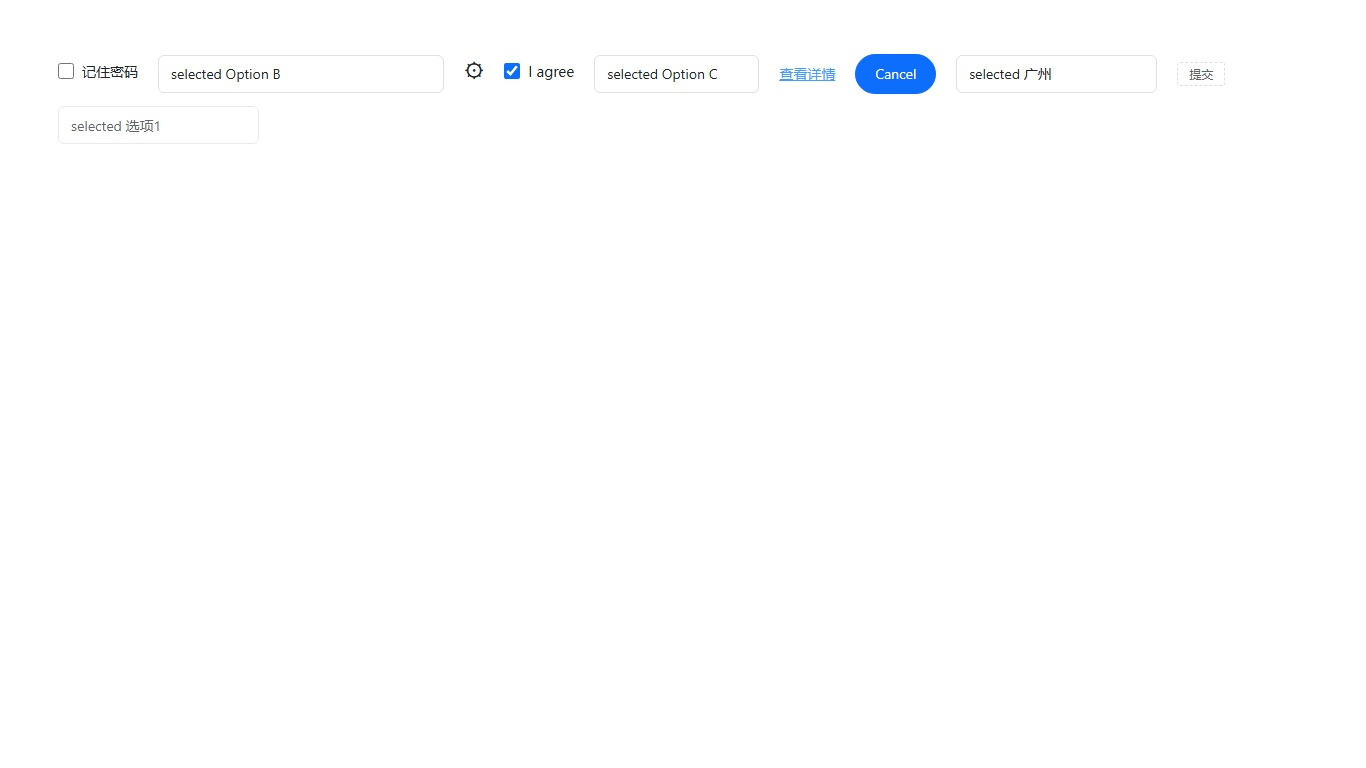button: (855, 54, 936, 94), (1177, 62, 1225, 86)
checkbox: (58, 63, 74, 79), (504, 63, 520, 79)
icon: (82, 61, 138, 81), (528, 61, 574, 81), (464, 57, 484, 81)
link: (779, 64, 835, 83)
radio: (58, 61, 138, 81), (504, 61, 574, 81)
select: (158, 54, 444, 92), (956, 54, 1157, 92), (58, 106, 259, 144), (594, 54, 759, 92)
